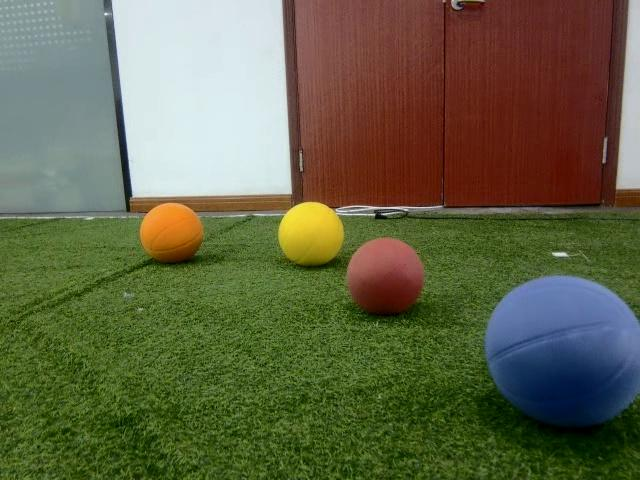blue_ball: (484, 275, 640, 429)
orange_ball: (139, 202, 203, 264)
red_ball: (346, 240, 424, 314)
yellow_ball: (279, 202, 345, 268)
